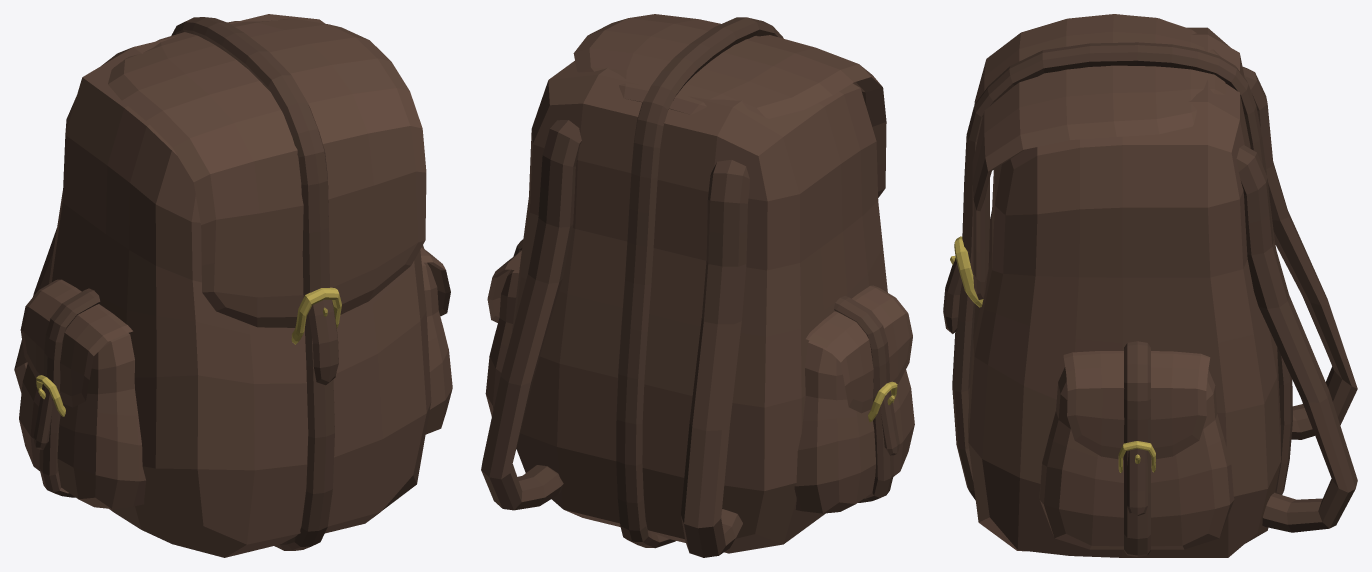
File: backpack-quaternius-panel-red.glb
3 views of the same model, side by side, from view 1: azimuth 30°, elevation 25°; view 2: azimuth 150°, elevation 25°; view 3: azimuth 270°, elevation 25° (orthographic). The views are drawn at different scales.
Parts seen in each view (by area): view 1: Backpack; view 2: Backpack; view 3: Backpack.
Part boxes in pixels (<box>): Backpack: <box>14,14,452,557</box>; Backpack: <box>481,14,914,557</box>; Backpack: <box>943,14,1357,557</box>.
Size of the model in its own units: 0.9605 by 1.1 by 0.852.
